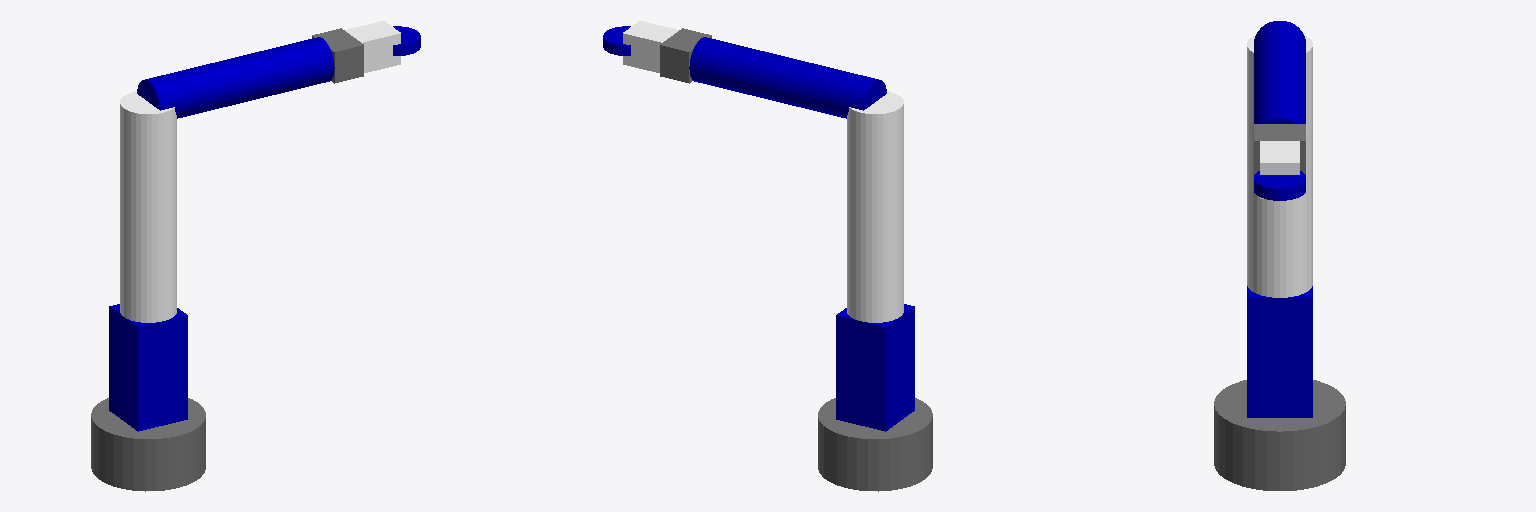
URDF robot description (simple_6dof_arm):
<?xml version="1.0"?>
<robot name="simple_6dof_arm">

  <!-- Materials -->
  <material name="blue">
    <color rgba="0 0 0.8 1"/>
  </material>
  <material name="white">
    <color rgba="1 1 1 1"/>
  </material>
  <material name="grey">
    <color rgba="0.5 0.5 0.5 1"/>
  </material>

  <!-- World Link -->
  <link name="world"/>

  <!-- World Joint -->
  <joint name="world_joint" type="fixed">
    <parent link="world"/>
    <child link="base_link"/>
    <origin xyz="0 0 0" rpy="0 0 0"/>
  </joint>

  <!-- Base Link -->
  <link name="base_link">
    <visual>
      <geometry>
        <cylinder length="0.1" radius="0.1"/>
      </geometry>
      <material name="grey"/>
      <origin xyz="0 0 0.05" rpy="0 0 0"/>
    </visual>
    <collision>
      <geometry>
        <cylinder length="0.1" radius="0.1"/>
      </geometry>
      <origin xyz="0 0 0.05" rpy="0 0 0"/>
    </collision>
    <inertial>
      <mass value="5.0"/>
      <origin xyz="0 0 0.05"/>
      <inertia ixx="0.01" ixy="0.0" ixz="0.0" iyy="0.01" iyz="0.0" izz="0.02"/>
    </inertial>
  </link>

  <!-- Joint 1: Waist (Pan) -->
  <joint name="joint_1" type="revolute">
    <parent link="base_link"/>
    <child link="link_1"/>
    <origin xyz="0 0 0.1" rpy="0 0 0"/>
    <axis xyz="0 0 1"/>
    <limit lower="-3.14" upper="3.14" effort="100" velocity="1.0"/>
  </joint>

  <!-- Link 1: Shoulder -->
  <link name="link_1">
    <visual>
      <geometry>
        <box size="0.1 0.1 0.2"/>
      </geometry>
      <material name="blue"/>
      <origin xyz="0 0 0.1" rpy="0 0 0"/>
    </visual>
    <collision>
      <geometry>
        <box size="0.1 0.1 0.2"/>
      </geometry>
      <origin xyz="0 0 0.1" rpy="0 0 0"/>
    </collision>
    <inertial>
      <mass value="2.0"/>
      <origin xyz="0 0 0.1"/>
      <inertia ixx="0.005" ixy="0.0" ixz="0.0" iyy="0.005" iyz="0.0" izz="0.005"/>
    </inertial>
  </link>

  <!-- Joint 2: Shoulder (Lift) -->
  <joint name="joint_2" type="revolute">
    <parent link="link_1"/>
    <child link="link_2"/>
    <origin xyz="0 0 0.2" rpy="0 0 0"/>
    <axis xyz="0 1 0"/>
    <limit lower="-1.57" upper="1.57" effort="100" velocity="1.0"/>
  </joint>

  <!-- Link 2: Upper Arm -->
  <link name="link_2">
    <visual>
      <geometry>
        <cylinder length="0.4" radius="0.05"/>
      </geometry>
      <material name="white"/>
      <origin xyz="0 0 0.2" rpy="0 0 0"/>
    </visual>
    <collision>
      <geometry>
        <cylinder length="0.4" radius="0.05"/>
      </geometry>
      <origin xyz="0 0 0.2" rpy="0 0 0"/>
    </collision>
    <inertial>
      <mass value="3.0"/>
      <origin xyz="0 0 0.2"/>
      <inertia ixx="0.01" ixy="0.0" ixz="0.0" iyy="0.01" iyz="0.0" izz="0.005"/>
    </inertial>
  </link>

  <!-- Joint 3: Elbow -->
  <joint name="joint_3" type="revolute">
    <parent link="link_2"/>
    <child link="link_3"/>
    <origin xyz="0 0 0.4" rpy="0 1.57 0"/>
    <axis xyz="0 1 0"/>
    <limit lower="-2.5" upper="2.5" effort="100" velocity="1.0"/>
  </joint>

  <!-- Link 3: Forearm -->
  <link name="link_3">
    <visual>
      <geometry>
        <cylinder length="0.35" radius="0.04"/>
      </geometry>
      <material name="blue"/>
      <origin xyz="0 0 0.175" rpy="0 0 0"/>
    </visual>
    <collision>
      <geometry>
        <cylinder length="0.35" radius="0.04"/>
      </geometry>
      <origin xyz="0 0 0.175" rpy="0 0 0"/>
    </collision>
    <inertial>
      <mass value="2.0"/>
      <origin xyz="0 0 0.175"/>
      <inertia ixx="0.005" ixy="0.0" ixz="0.0" iyy="0.005" iyz="0.0" izz="0.003"/>
    </inertial>
  </link>

  <!-- Joint 4: Wrist 1 -->
  <joint name="joint_4" type="revolute">
    <parent link="link_3"/>
    <child link="link_4"/>
    <origin xyz="0 0 0.35" rpy="0 0 0"/>
    <axis xyz="0 1 0"/>
    <limit lower="-3.14" upper="3.14" effort="50" velocity="2.0"/>
  </joint>

  <!-- Link 4: Wrist 1 Link -->
  <link name="link_4">
    <visual>
      <geometry>
        <box size="0.06 0.08 0.06"/>
      </geometry>
      <material name="grey"/>
      <origin xyz="0 0 0.03" rpy="0 0 0"/>
    </visual>
    <collision>
      <geometry>
        <box size="0.06 0.08 0.06"/>
      </geometry>
      <origin xyz="0 0 0.03" rpy="0 0 0"/>
    </collision>
    <inertial>
      <mass value="0.5"/>
      <origin xyz="0 0 0.03"/>
      <inertia ixx="0.001" ixy="0.0" ixz="0.0" iyy="0.001" iyz="0.0" izz="0.001"/>
    </inertial>
  </link>

  <!-- Joint 5: Wrist 2 -->
  <joint name="joint_5" type="revolute">
    <parent link="link_4"/>
    <child link="link_5"/>
    <origin xyz="0 0 0.06" rpy="0 0 0"/>
    <axis xyz="0 0 1"/>
    <limit lower="-3.14" upper="3.14" effort="50" velocity="2.0"/>
  </joint>

  <!-- Link 5: Wrist 2 Link -->
  <link name="link_5">
    <visual>
      <geometry>
        <box size="0.06 0.06 0.08"/>
      </geometry>
      <material name="white"/>
      <origin xyz="0 0 0.04" rpy="0 0 0"/>
    </visual>
    <collision>
      <geometry>
        <box size="0.06 0.06 0.08"/>
      </geometry>
      <origin xyz="0 0 0.04" rpy="0 0 0"/>
    </collision>
    <inertial>
      <mass value="0.5"/>
      <origin xyz="0 0 0.04"/>
      <inertia ixx="0.001" ixy="0.0" ixz="0.0" iyy="0.001" iyz="0.0" izz="0.001"/>
    </inertial>
  </link>

  <!-- Joint 6: Wrist 3 (Tool Flange) -->
  <joint name="joint_6" type="revolute">
    <parent link="link_5"/>
    <child link="link_6"/>
    <origin xyz="0 0 0.08" rpy="0 0 0"/>
    <axis xyz="1 0 0"/>
    <limit lower="-3.14" upper="3.14" effort="50" velocity="2.0"/>
  </joint>

  <!-- Link 6: End Effector Link -->
  <link name="link_6">
    <visual>
      <geometry>
        <cylinder length="0.02" radius="0.04"/>
      </geometry>
      <material name="blue"/>
      <origin xyz="0 0 0.01" rpy="0 1.57 0"/>
    </visual>
    <collision>
      <geometry>
        <cylinder length="0.02" radius="0.04"/>
      </geometry>
      <origin xyz="0 0 0.01" rpy="0 1.57 0"/>
    </collision>
    <inertial>
      <mass value="0.2"/>
      <origin xyz="0 0 0.01"/>
      <inertia ixx="0.0005" ixy="0.0" ixz="0.0" iyy="0.0005" iyz="0.0" izz="0.0005"/>
    </inertial>
  </link>

</robot>

--- What the picture shows (computed from the rendered views, not written in the file) ---
3 views of the same robot in one strip: view 1: azimuth 30°, elevation 25°; view 2: azimuth 150°, elevation 25°; view 3: azimuth 270°, elevation 25° (orthographic).
Model simple_6dof_arm with 8 links and 7 joints (6 revolute, 1 fixed), rooted at world, posed every joint at zero.
Visible links, largest first — view 1: link_2, link_1, link_3, base_link, link_5, link_4, link_6; view 2: link_2, link_1, link_3, base_link, link_5, link_4, link_6; view 3: base_link, link_2, link_1, link_3, link_5, link_4, link_6.
Link boxes in pixels (bbox=[...]): link_2: bbox=[120, 91, 176, 322]; link_1: bbox=[109, 304, 187, 431]; link_3: bbox=[137, 37, 334, 118]; base_link: bbox=[91, 398, 205, 491]; link_5: bbox=[345, 21, 400, 72]; link_4: bbox=[312, 28, 363, 83]; link_6: bbox=[393, 26, 420, 55]; link_2: bbox=[847, 91, 903, 322]; link_1: bbox=[836, 304, 914, 431]; link_3: bbox=[689, 37, 886, 118]; base_link: bbox=[818, 398, 932, 491]; link_5: bbox=[623, 21, 678, 72]; link_4: bbox=[660, 28, 711, 83]; link_6: bbox=[603, 26, 630, 55]; base_link: bbox=[1214, 380, 1345, 490]; link_2: bbox=[1247, 35, 1312, 297]; link_1: bbox=[1247, 286, 1312, 417]; link_3: bbox=[1254, 21, 1305, 123]; link_5: bbox=[1260, 141, 1299, 198]; link_4: bbox=[1254, 124, 1305, 174]; link_6: bbox=[1254, 171, 1305, 200].
Bounding box of the posed robot: 0.64 × 0.2 × 0.7403 m (x, y, z).
Geometry: primitives only (box / cylinder / sphere), no mesh files.